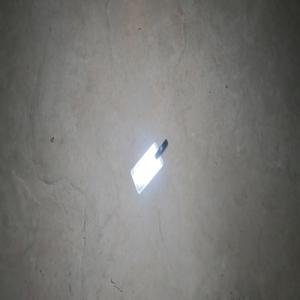LuggageTag: (129, 138, 168, 195)
